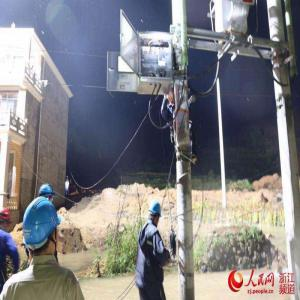blue: (22, 198, 60, 261), (39, 184, 55, 205), (149, 201, 162, 226)
red: (2, 207, 12, 231)
